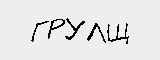Г: (29, 18, 47, 44)
Л: (85, 21, 106, 44)
Р: (46, 15, 65, 42)
У: (63, 17, 84, 40)
Щ: (104, 20, 129, 44)
